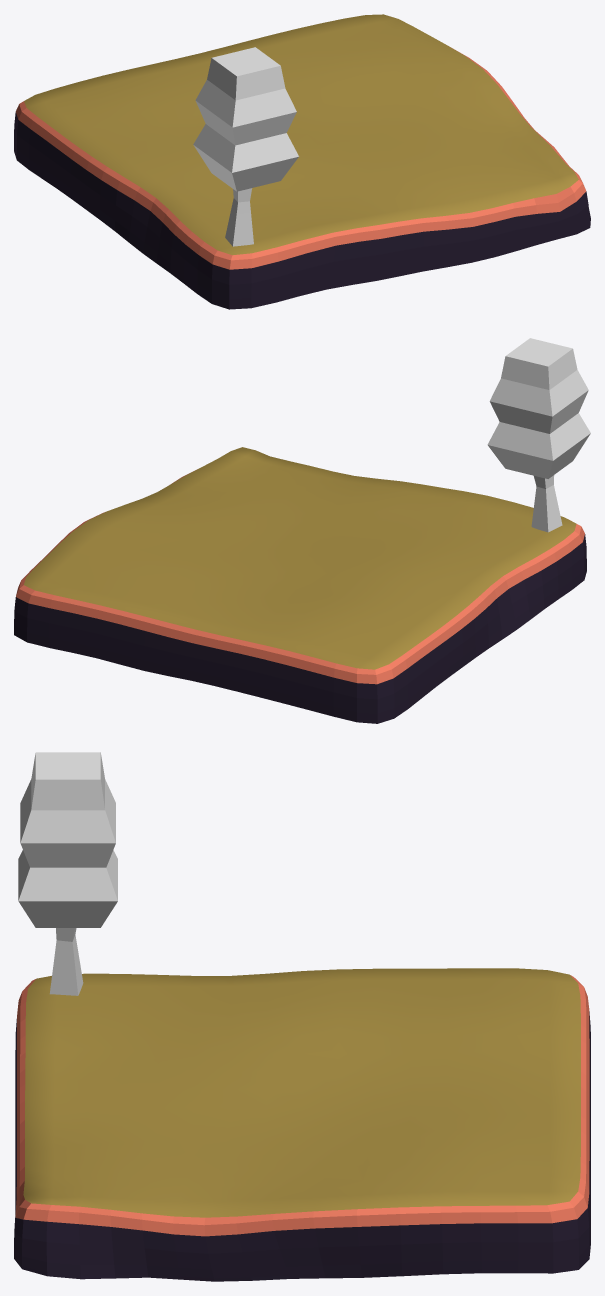
Rendered from rbday.gltf.
3 renders of one model, top to bottom at view 1: azimuth 30°, elevation 25°; view 2: azimuth 150°, elevation 25°; view 3: azimuth 270°, elevation 25°, orthographic. The views are drawn at different scales.
Parts seen in each view (by area): view 1: Plane.001, Cube.002, Plane.002; view 2: Plane.001, Cube.002, Plane.002; view 3: Plane.001, Cube.002, Plane.002.
Boxes of the visible parts, <box> form: Plane.001: <box>14,14,590,309</box>; Cube.002: <box>193,47,298,191</box>; Plane.002: <box>225,188,253,246</box>; Plane.001: <box>14,447,586,723</box>; Cube.002: <box>487,338,590,478</box>; Plane.002: <box>531,475,562,532</box>; Plane.001: <box>14,968,590,1281</box>; Cube.002: <box>18,752,117,927</box>; Plane.002: <box>49,928,83,995</box>.
Bounding box in the file's own units: 8.18 × 4.65 × 8.02.
